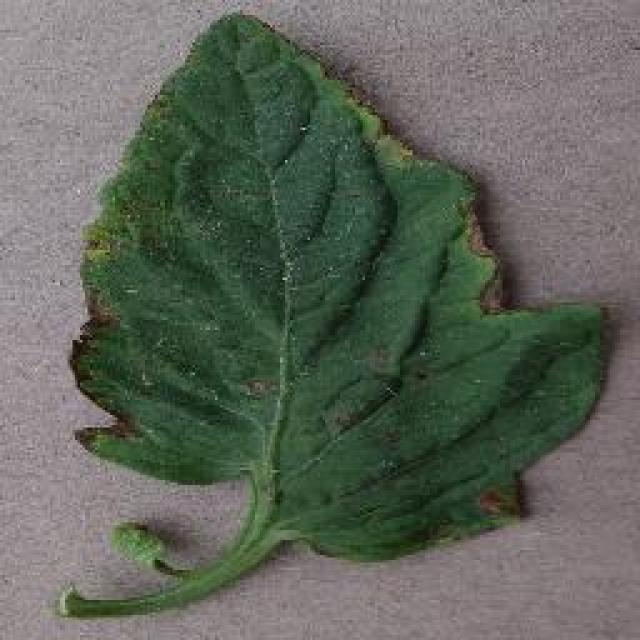bacterial spot: (61, 8, 605, 618)
